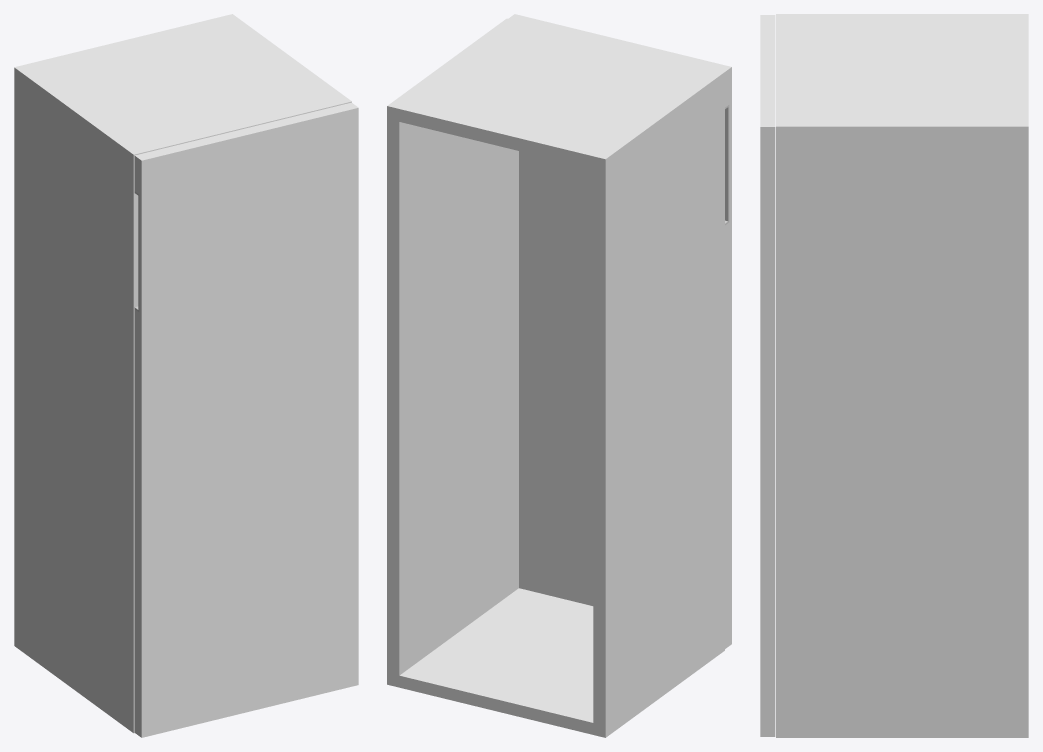
File: AEC_48035.glb
The picture shows the model from 3 angles, left to right: view 1: azimuth 30°, elevation 25°; view 2: azimuth 150°, elevation 25°; view 3: azimuth 270°, elevation 25°; orthographic projection. The views are drawn at different scales.
Parts seen in each view (by area): view 1: 0; view 2: 0; view 3: 0.
Part boxes in pixels (box(x1,y1,x2,y2)): 0: box(14, 14, 358, 737); 0: box(387, 14, 731, 737); 0: box(760, 14, 1028, 737).
Size of the model in its own units: 0.32 by 0.81 by 0.322.
1 material, 1 textured.
